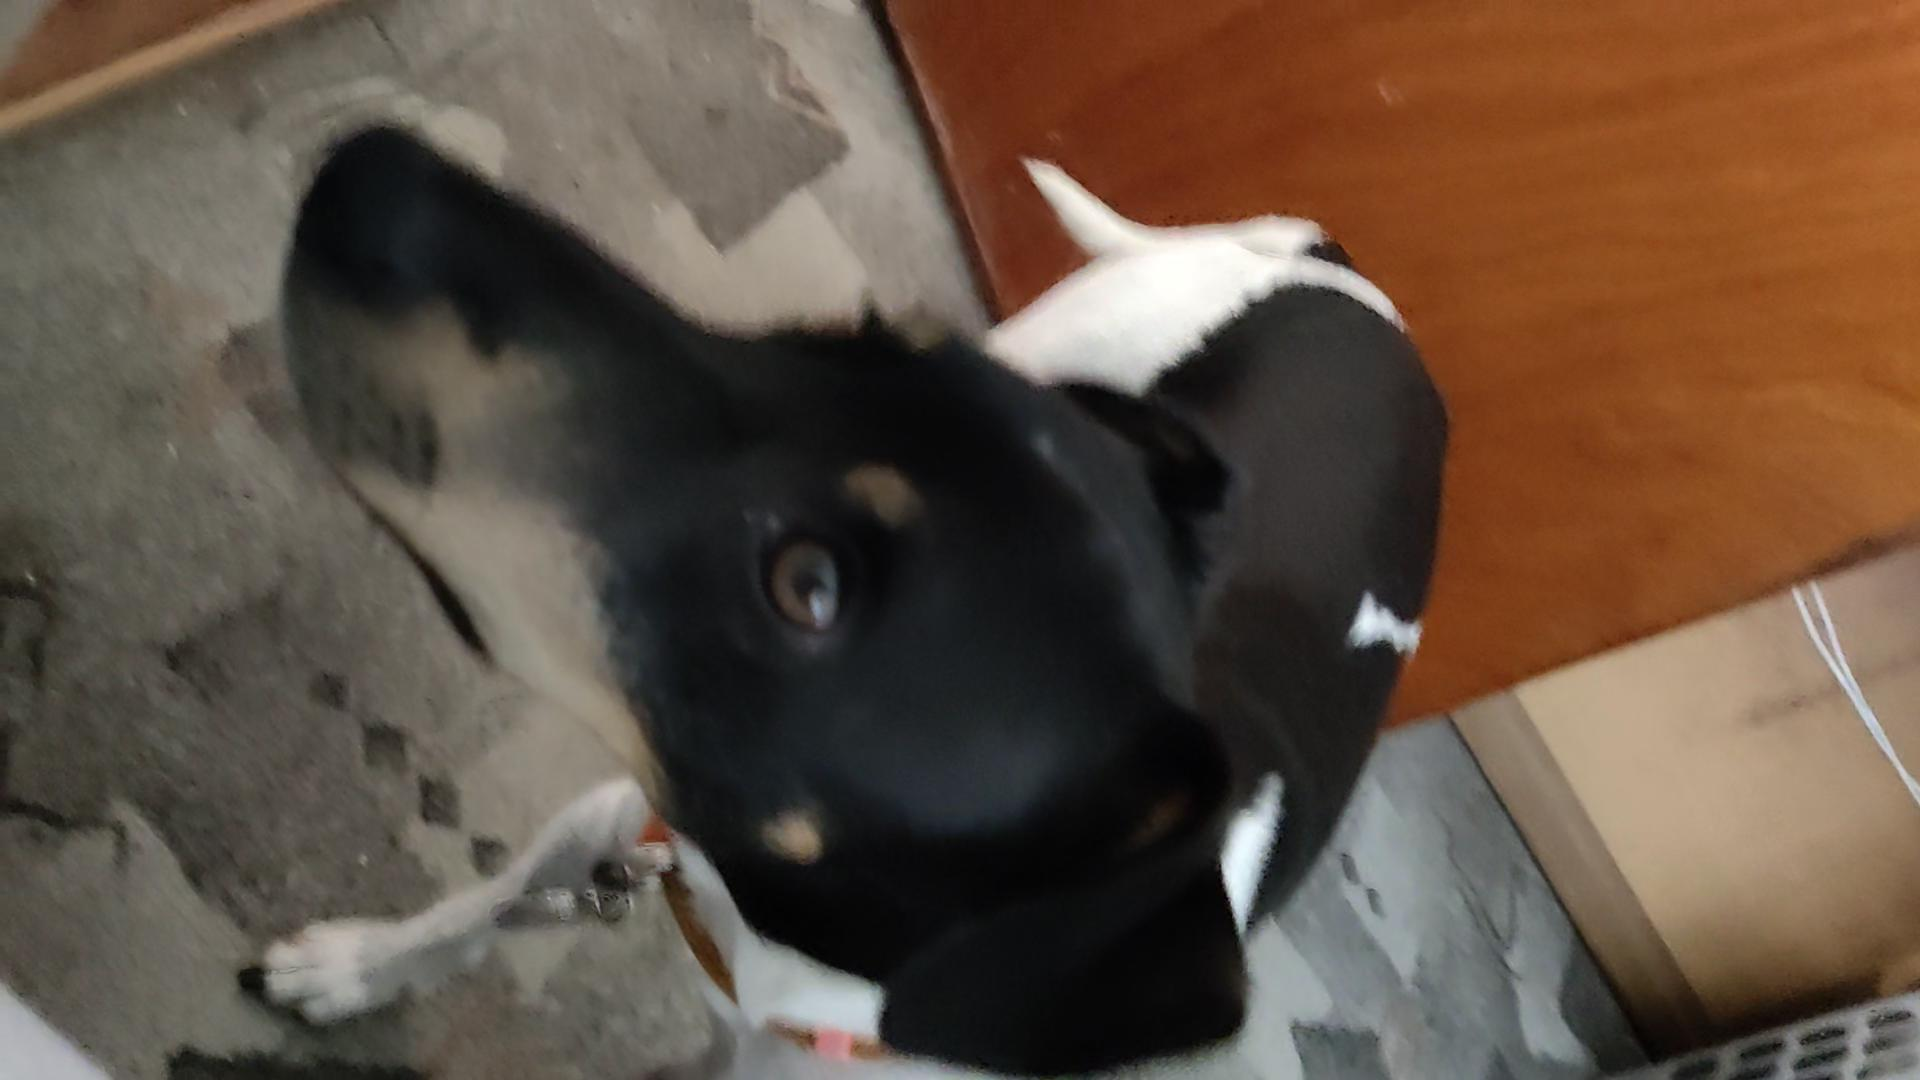Dog: (224, 105, 1451, 1079)
